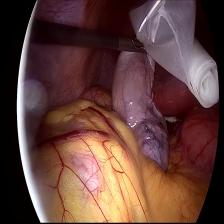Grasper: (116, 35, 153, 56)
Specimen Bag: (130, 2, 222, 112)
